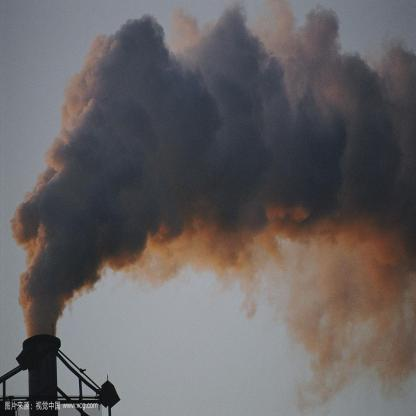smoke: (89, 15, 413, 249), (13, 131, 89, 334)
